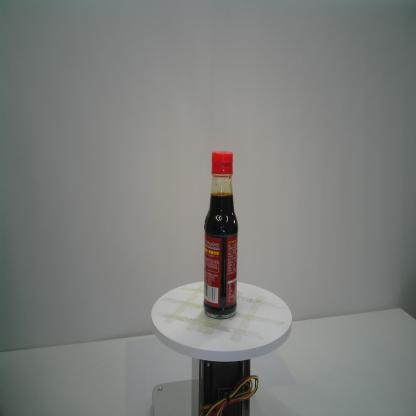Seasoner: (204, 150, 238, 320)
